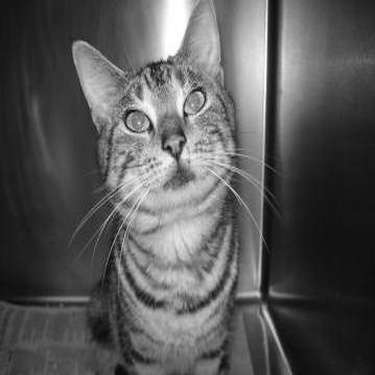cat: (16, 13, 317, 368)
